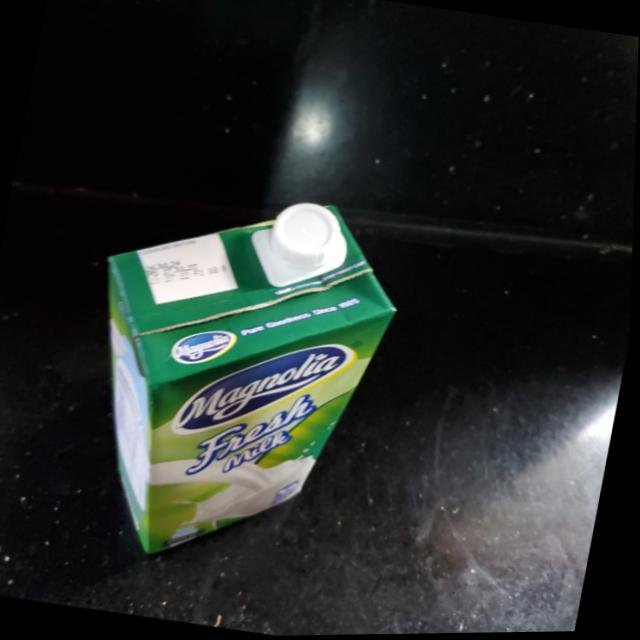milk: (59, 172, 421, 593)
